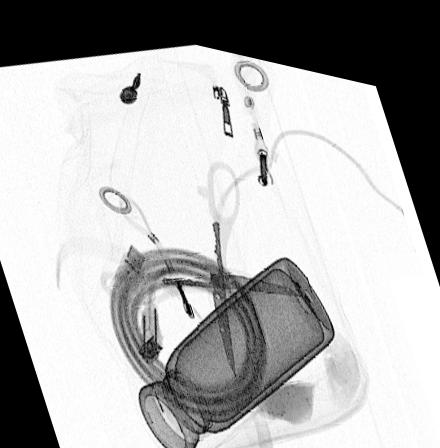Scissors: (99, 151, 301, 366)
